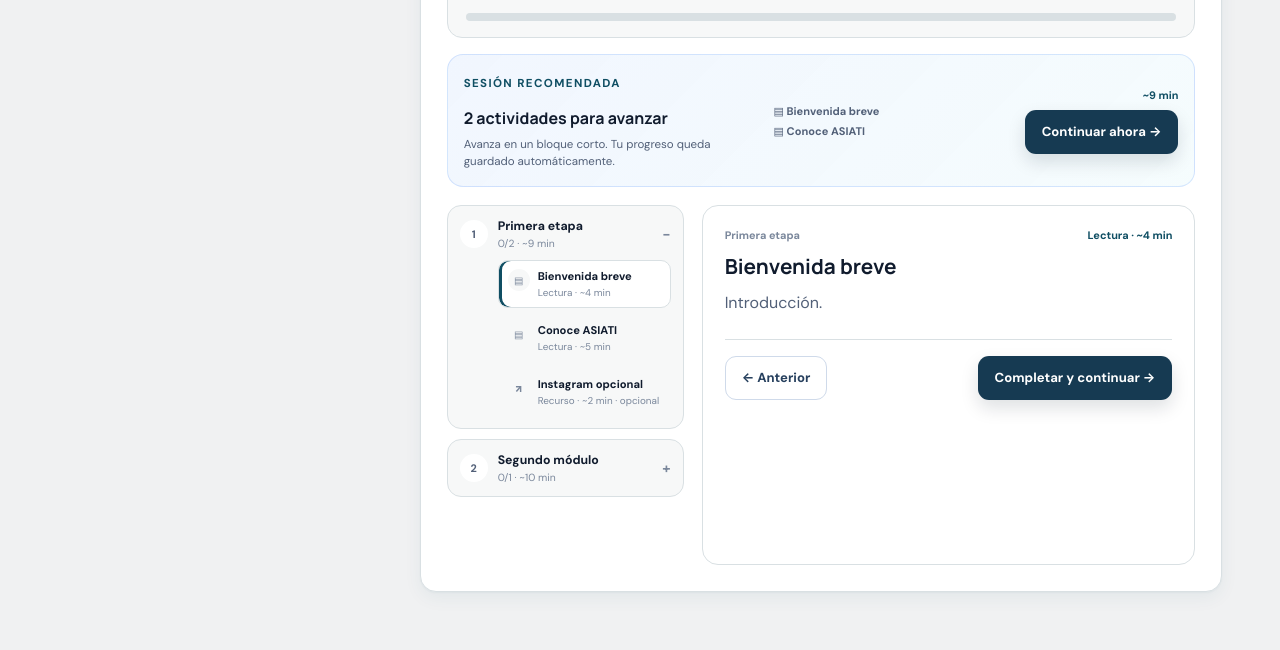
it: Focused onboarding sessions › recommends a short session and keeps non-active modules collapsed
(page scrolled)
Expected: the text "Sesión recomendada" is shown, [464,76,621,91]
Expected: the heading "2 actividades para avanzar" is shown, [464,107,668,129]
Step 1. Click the button "2 Segundo módulo 0/1 · ~10 min +" → x=565, y=468, box [460,452,671,484]
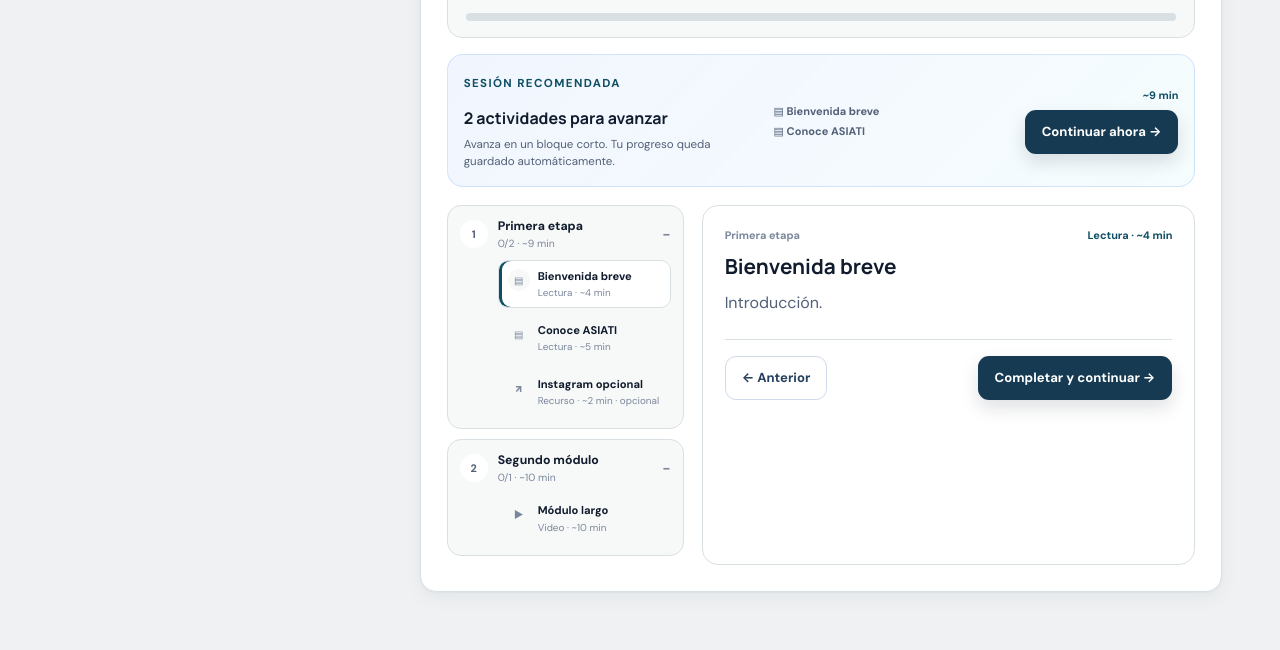
Expected: the text "Módulo largo" is shown, [538,503,608,518]
